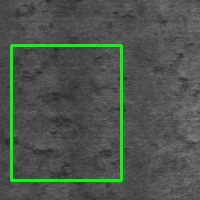rolled-in_scale: (12, 45, 121, 180)
